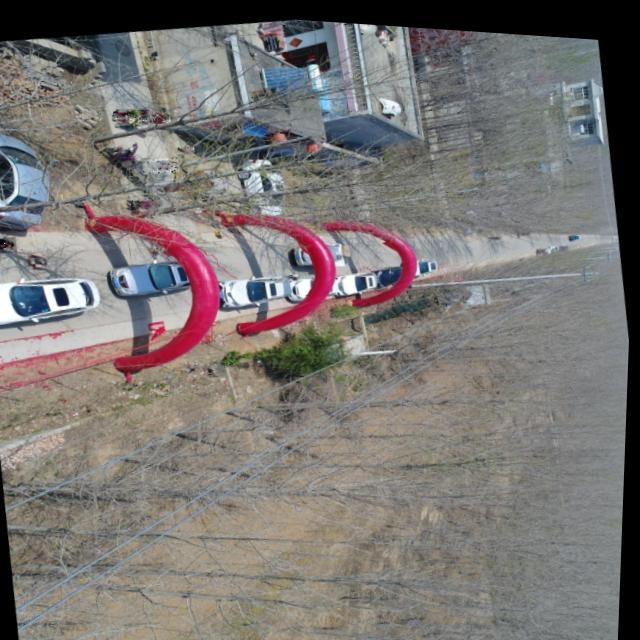Person: (142, 153, 180, 174), (128, 108, 172, 126), (127, 193, 164, 213), (112, 104, 150, 122), (145, 177, 182, 195), (0, 235, 18, 256), (271, 269, 300, 280), (177, 142, 198, 153), (123, 114, 143, 124), (489, 228, 504, 234)
